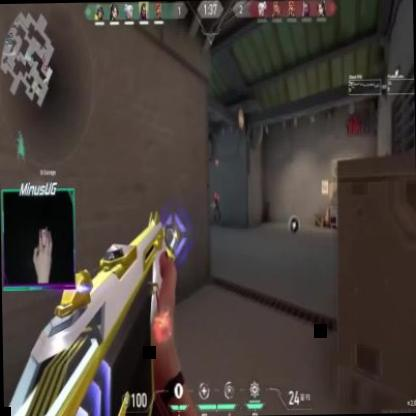enemy: (212, 190, 222, 228)
enemy_head: (214, 190, 216, 196)
